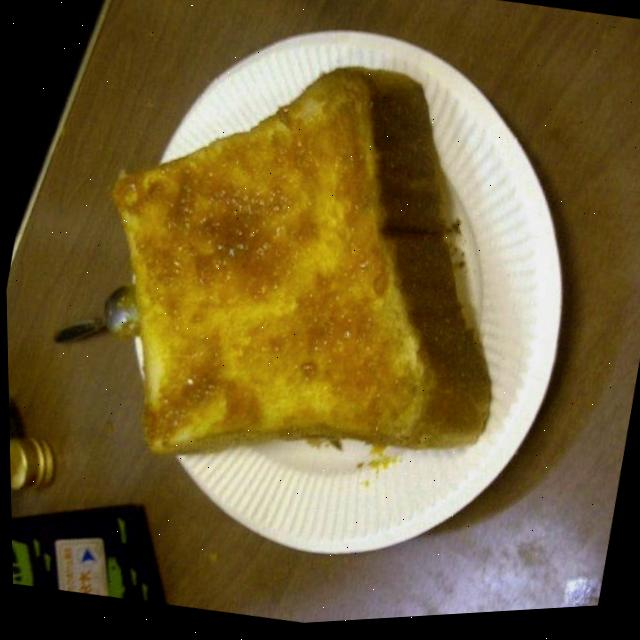面包点心: (47, 29, 543, 511)
